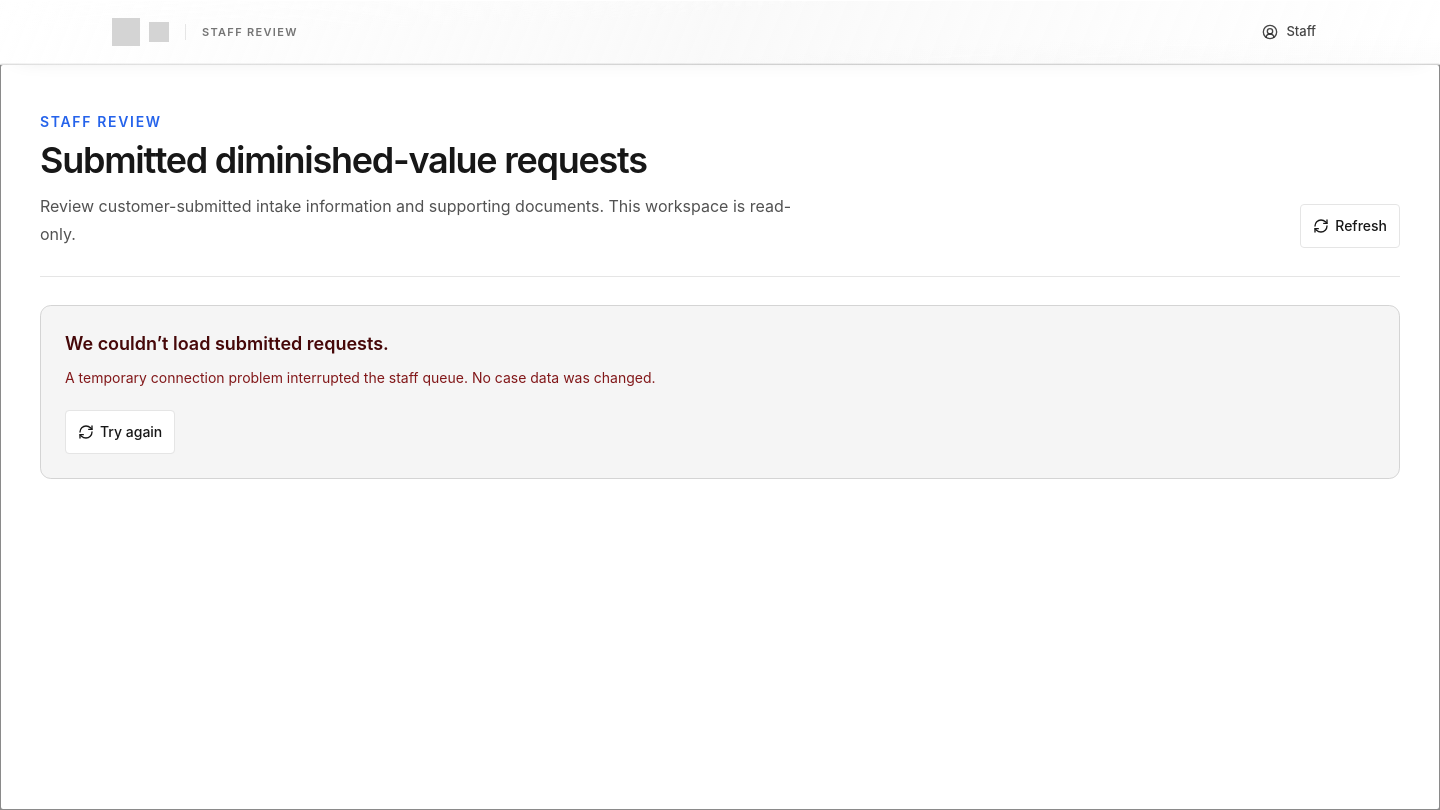
Scenario: admin diminished-value review pages when staff review is enabled › shows a retryable queue failure
The image size is (1440, 810).
Expected: the heading "We couldn’t load submitted requests." is shown, [65, 333, 389, 354]
What coordinates should you click on to do the following:
click the button "Try again"
I would click on:
 (120, 432)
Its box is [65, 410, 175, 454].
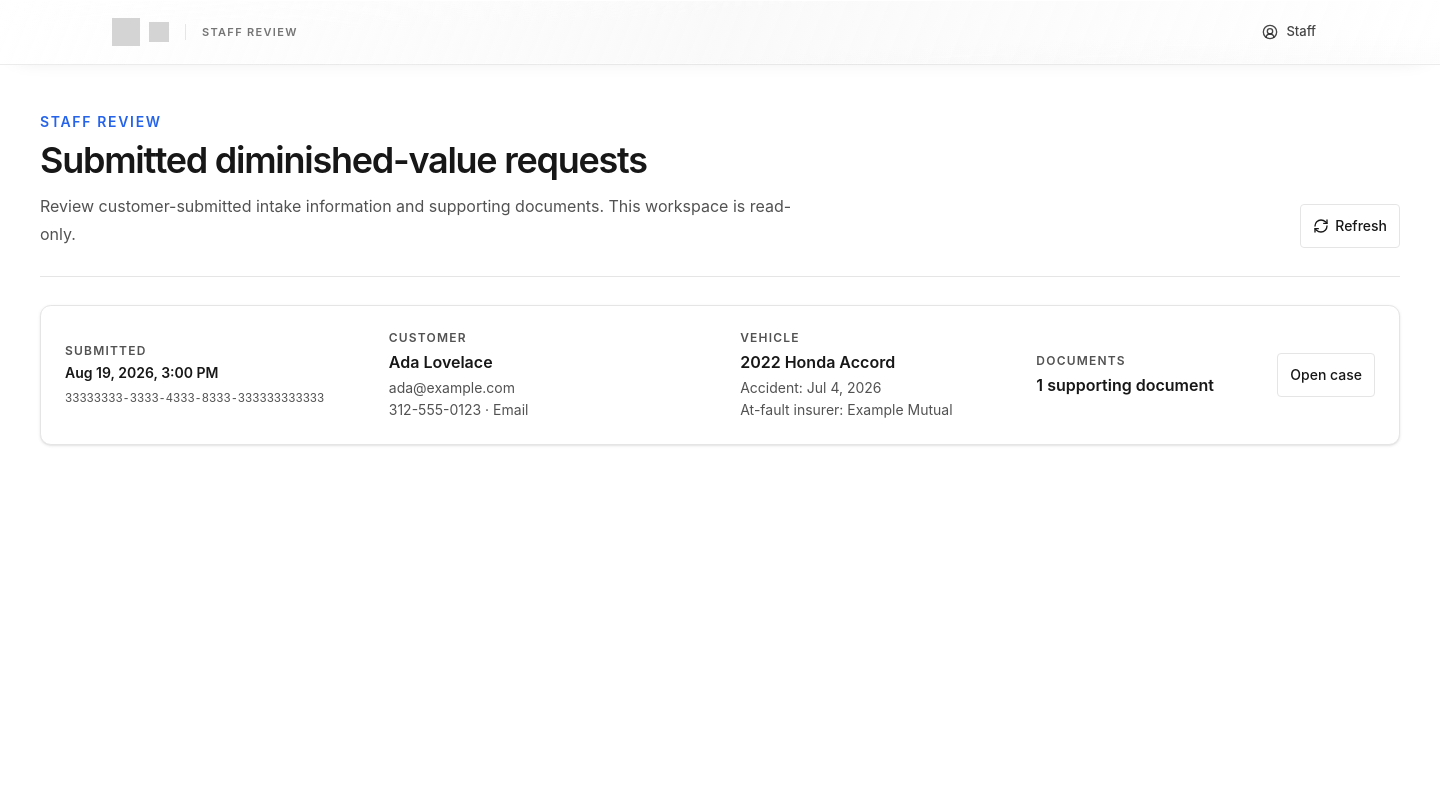
Expected: the text "Ada Lovelace" is shown, [389, 352, 493, 372]
